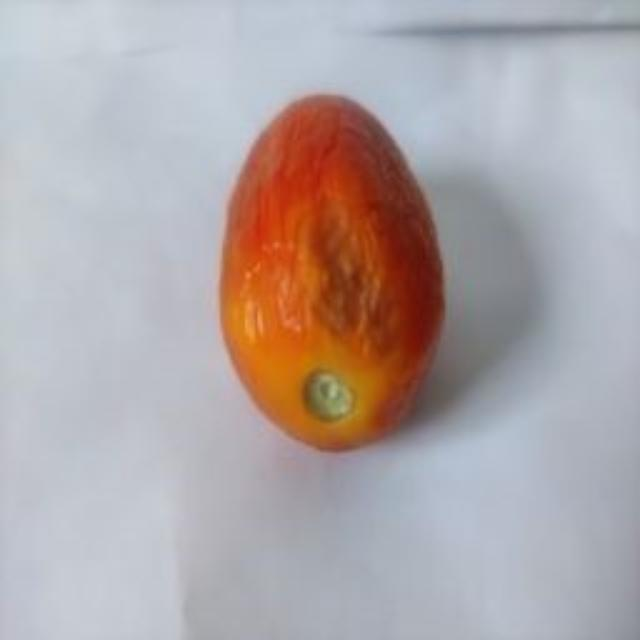defect: (214, 92, 452, 452)
